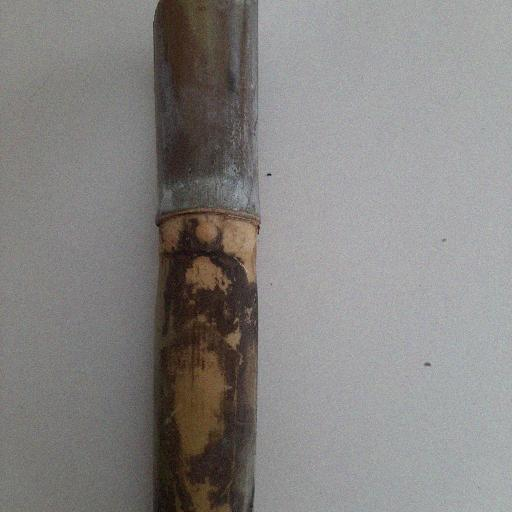Bud: (193, 217, 222, 252)
